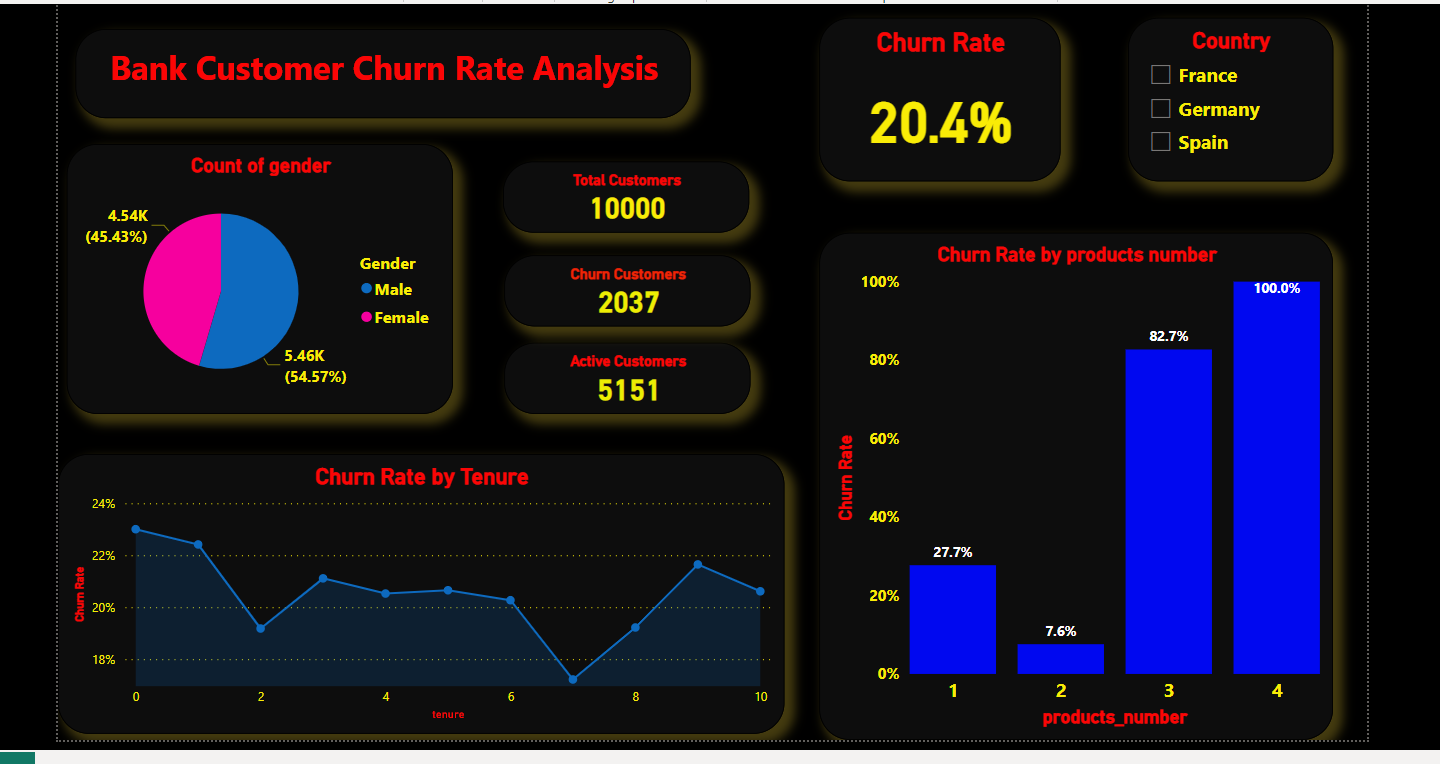

What the dashboard file says about the page in this screenshot:
{"tool":"powerbi","page":{"name":"Page 1","canvas":[1280,720],"ordinal":0},"visuals":[{"type":"pieChart","title":"Count of gender","fields":{"Category":["Bank Customer Churn Prediction.gender"],"Y":["CountNonNull(Bank Customer Churn Prediction.gender)"]},"box":[8.6,136.9,377.7,264],"z":0},{"type":"card","title":" Active Customers","fields":{"Values":["Sum(Bank Customer Churn Prediction.active_member)"]},"box":[436.4,331.3,240.8,69.7],"z":2000},{"type":"slicer","title":"Country ","fields":{"Values":["Bank Customer Churn Prediction.country"]},"box":[1046.4,13.4,200.5,160.1],"z":2001},{"type":"card","title":"Churn Customers","fields":{"Values":["Sum(Bank Customer Churn Prediction.churn)"]},"box":[436.4,245.7,240.8,69.7],"z":2002},{"type":"card","title":"Churn Rate","fields":{"Values":["Bank Customer Churn Prediction.Churn Rate"]},"box":[744.4,13.4,235.9,160.1],"z":2003},{"type":"textbox","box":[17.1,24.3,601.4,87.1],"z":2004},{"type":"areaChart","title":"Churn Rate by Tenure","fields":{"Category":["Bank Customer Churn Prediction.tenure"],"Y":["Bank Customer Churn Prediction.Churn Rate"]},"box":[0,440.1,710.2,273.8],"z":2005},{"type":"columnChart","title":"Churn Rate by products number","fields":{"Category":["Bank Customer Churn Prediction.products_number"],"Y":["Bank Customer Churn Prediction.Churn Rate"]},"box":[744.4,223.7,502.4,496.3],"z":2006},{"type":"card","title":"Total Customers","fields":{"Values":["CountNonNull(Bank Customer Churn Prediction.customer_id)"]},"box":[435.2,154,240.8,69.7],"z":2007}]}

Visuals, with their boxes on the page's 1280x720 design canvas (x1, y1, x2, y2). These are canvas units, not pixel positions in the 1440x764 screenshot, which may show the page scaled, cropped or inside an application window:
"Count of gender" pieChart: pyautogui.locateOnScreen(9, 137, 386, 401)
" Active Customers" card: pyautogui.locateOnScreen(436, 331, 677, 401)
"Country " slicer: pyautogui.locateOnScreen(1046, 13, 1247, 174)
"Churn Customers" card: pyautogui.locateOnScreen(436, 246, 677, 315)
"Churn Rate" card: pyautogui.locateOnScreen(744, 13, 980, 174)
textbox: pyautogui.locateOnScreen(17, 24, 618, 111)
"Churn Rate by Tenure" areaChart: pyautogui.locateOnScreen(0, 440, 710, 714)
"Churn Rate by products number" columnChart: pyautogui.locateOnScreen(744, 224, 1247, 720)
"Total Customers" card: pyautogui.locateOnScreen(435, 154, 676, 224)
